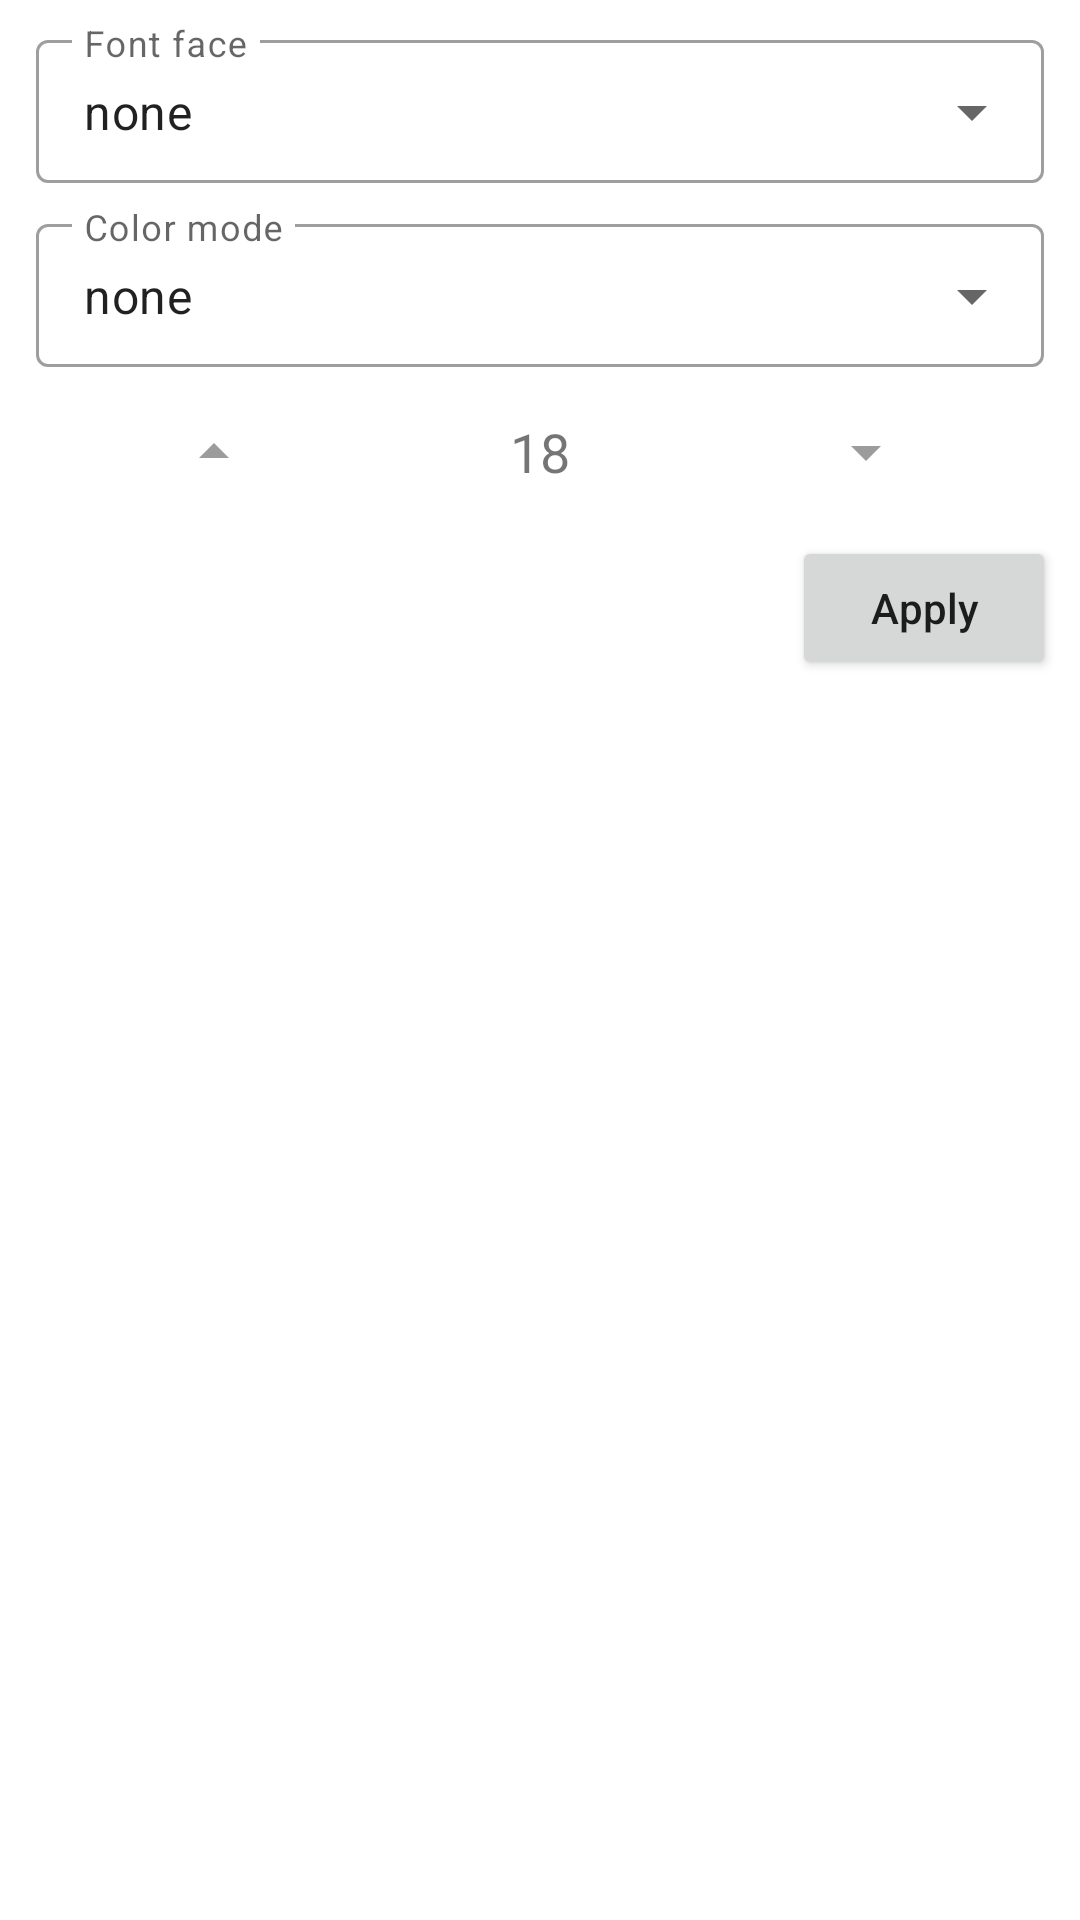

Icons on this 1080px x 1920px Android screen, each with the point to tap as (x=x, y=y):
drop down: (x=866, y=453)
drop up: (x=214, y=450)
